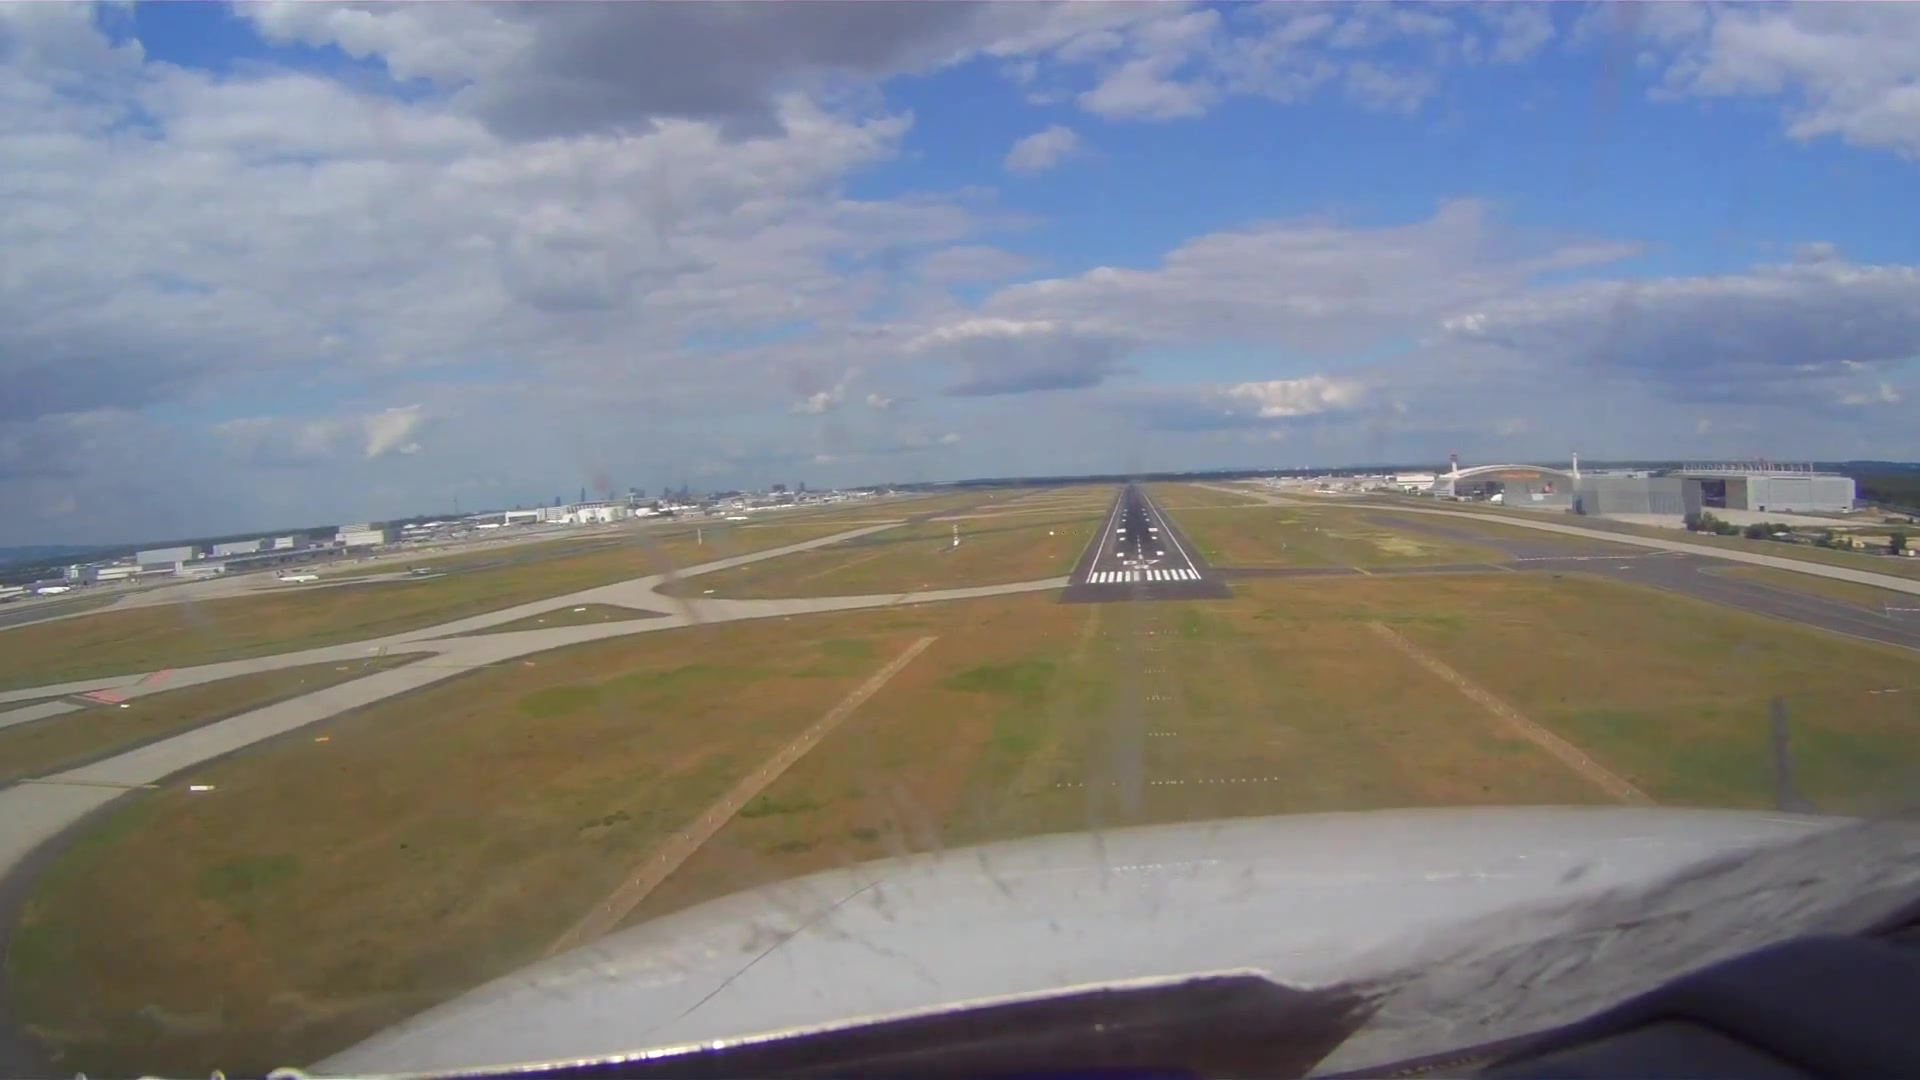entrance: (1085, 566, 1199, 587)
runway: (1062, 479, 1232, 605)
